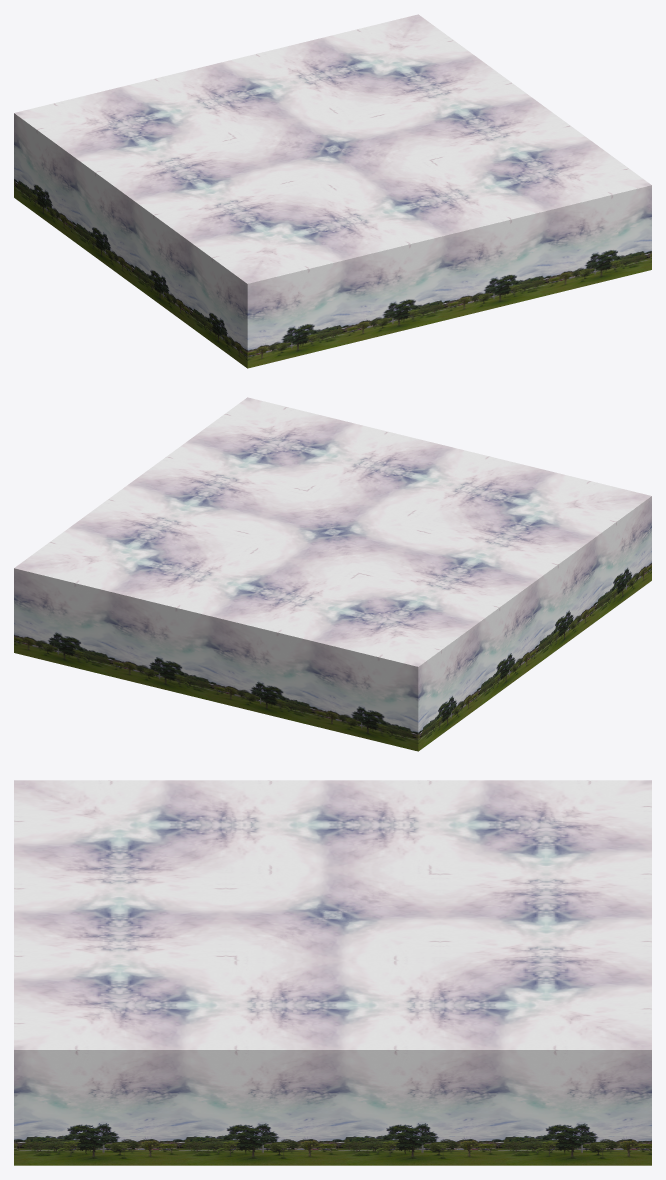
The model's file is skybox.obj.
3 renders of one model, top to bottom at view 1: azimuth 30°, elevation 25°; view 2: azimuth 150°, elevation 25°; view 3: azimuth 270°, elevation 25°, orthographic. The views are drawn at different scales.
Parts seen in each view (by area): view 1: Cube; view 2: Cube; view 3: Cube.
Boxes of the visible parts, x1,y1,x2,y2 form: Cube: (14, 14, 651, 368); Cube: (14, 397, 651, 751); Cube: (14, 780, 651, 1165).
Bounding box in the file's own units: 250 × 50 × 250.
